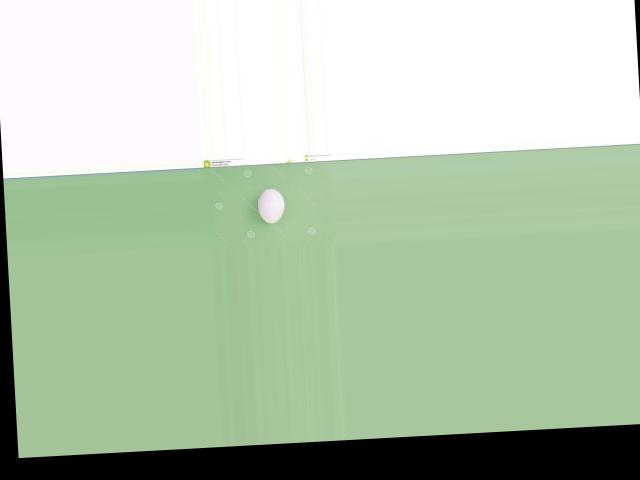egg: (257, 188, 285, 223)
